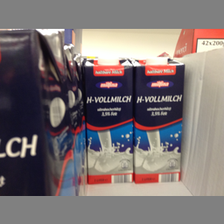milk: (82, 54, 135, 185), (131, 55, 185, 182)
